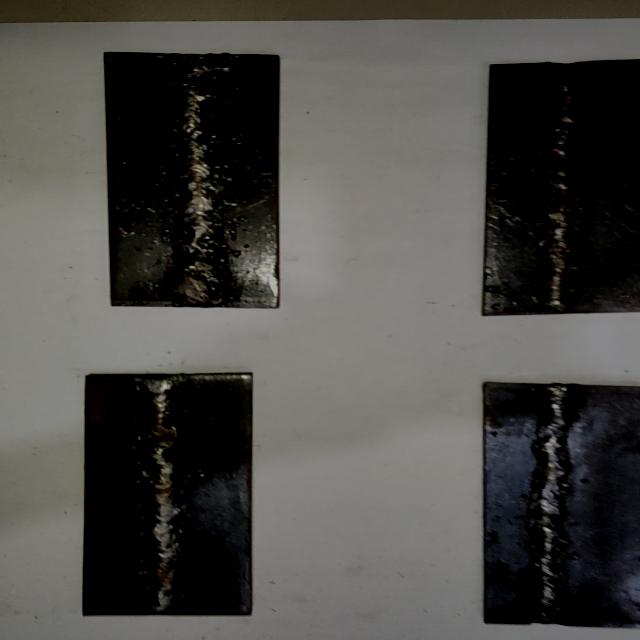Bad Weld: (177, 58, 233, 302), (547, 66, 578, 311)
Defect: (531, 390, 574, 621), (540, 64, 585, 268), (168, 55, 244, 103), (162, 228, 244, 268)
Good Weld: (136, 377, 180, 613)
